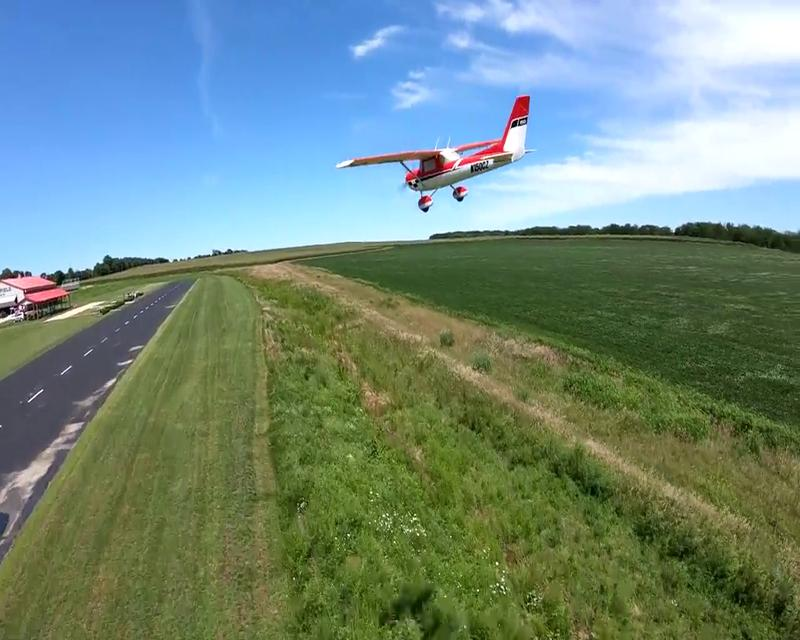UAV: (335, 95, 538, 214)
